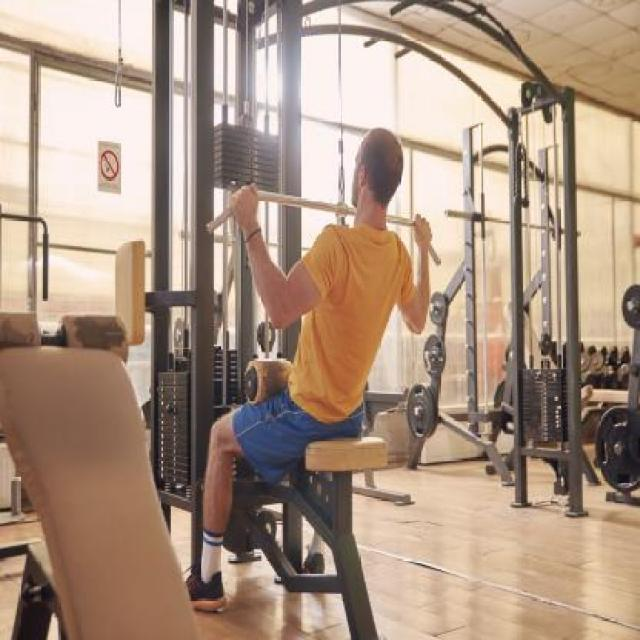Lat Pull Down: (135, 0, 440, 640)
